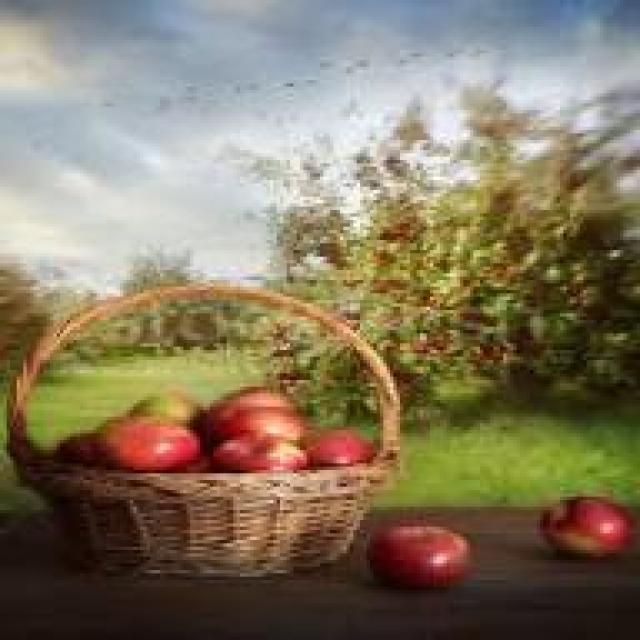apple: (353, 523, 480, 580), (100, 410, 203, 477), (520, 497, 637, 553), (206, 430, 316, 477), (290, 423, 363, 467), (210, 390, 297, 423), (130, 394, 200, 434), (226, 407, 296, 443)
